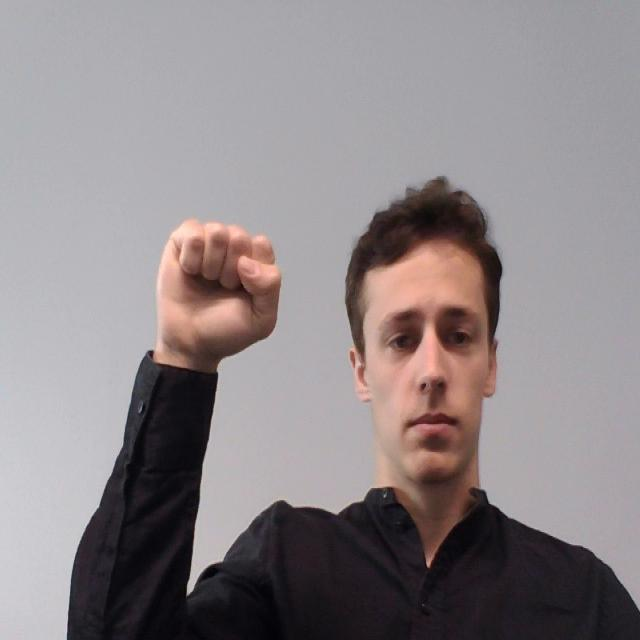stop: (137, 202, 292, 372)
